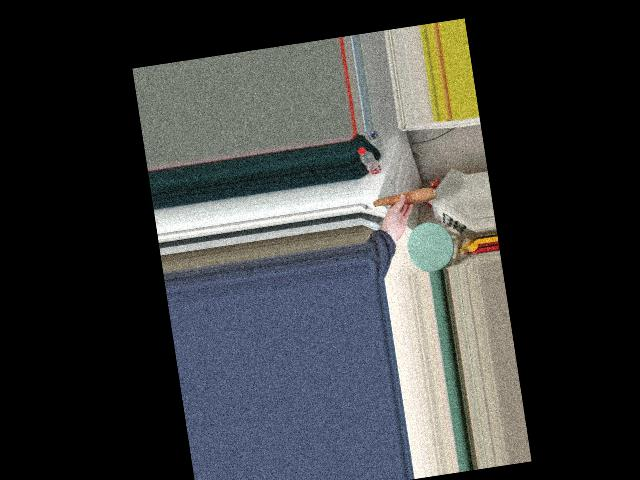sweet_potato: (371, 185, 436, 215)
